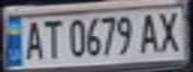0: (66, 16, 87, 58)
6: (84, 15, 103, 57)
7: (100, 14, 118, 56)
9: (115, 12, 139, 55)
A: (136, 10, 163, 54), (18, 18, 45, 61)
T: (39, 17, 63, 61)
X: (154, 8, 187, 54)
